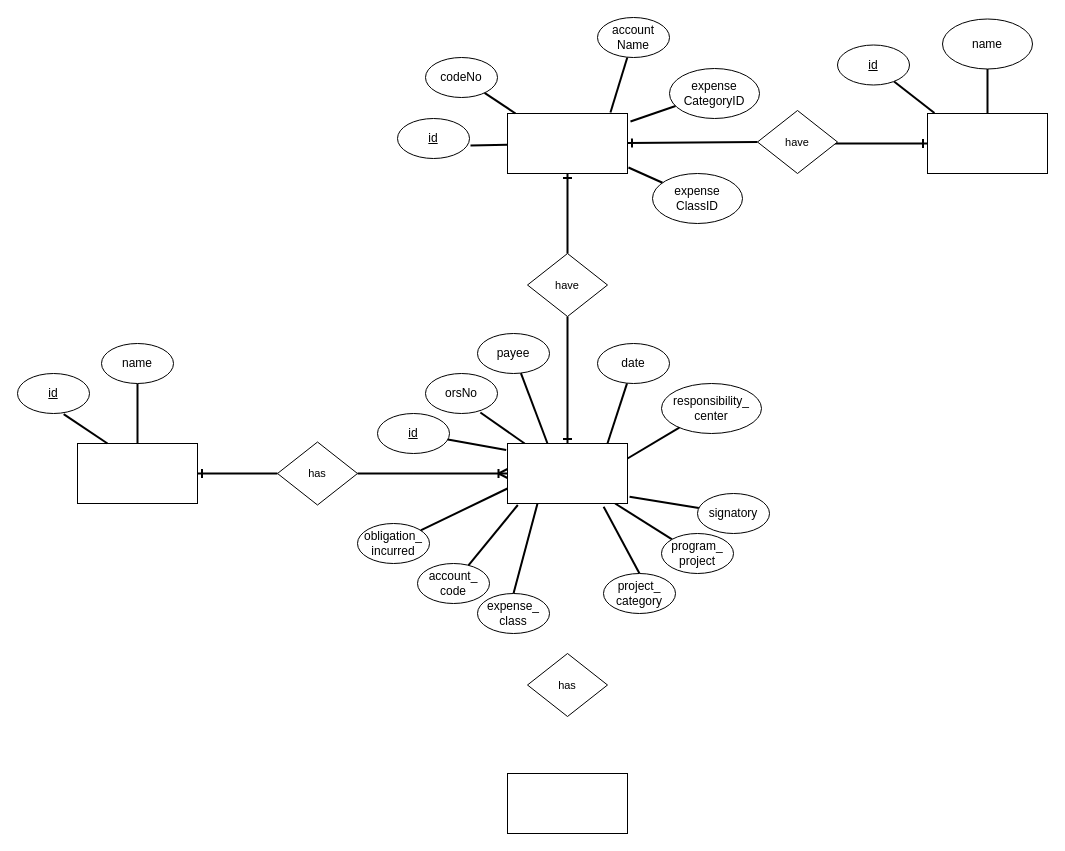
Some shapes in this 1065 by 851 pixel diagram are drawn without their labels. The shapes that lost their labels are listed below. From the top down, each one's centre as x and y in pixels, then its label:
pixel 567 143: tbl_account_code
pixel 987 143: tbl_expense_class
pixel 137 473: tbl_payee
pixel 567 473: tbl_obligations
pixel 567 803: tbl_responsibility_ center
